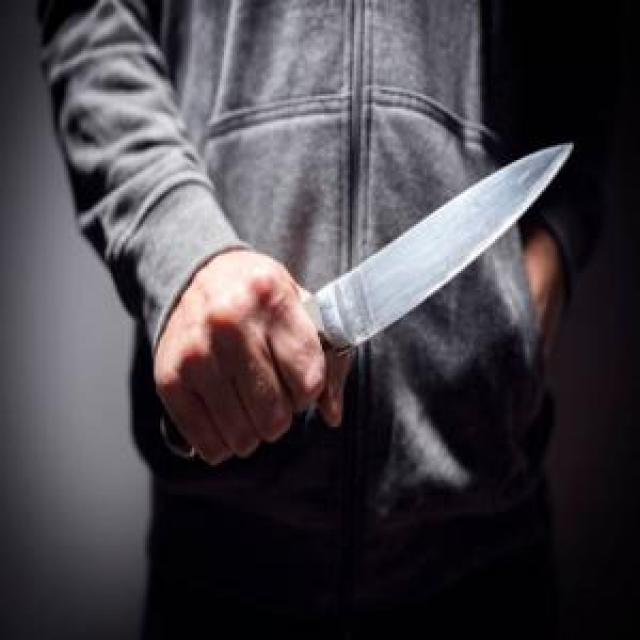knife: (126, 135, 577, 466)
